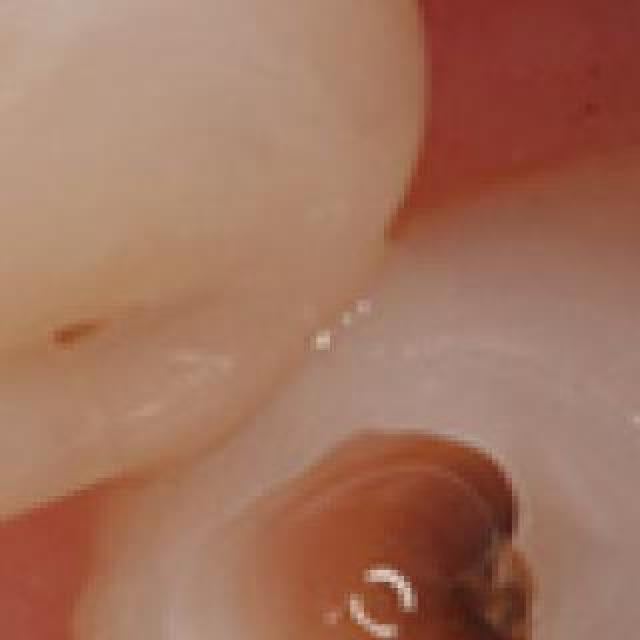cavities: (188, 332, 640, 640)
